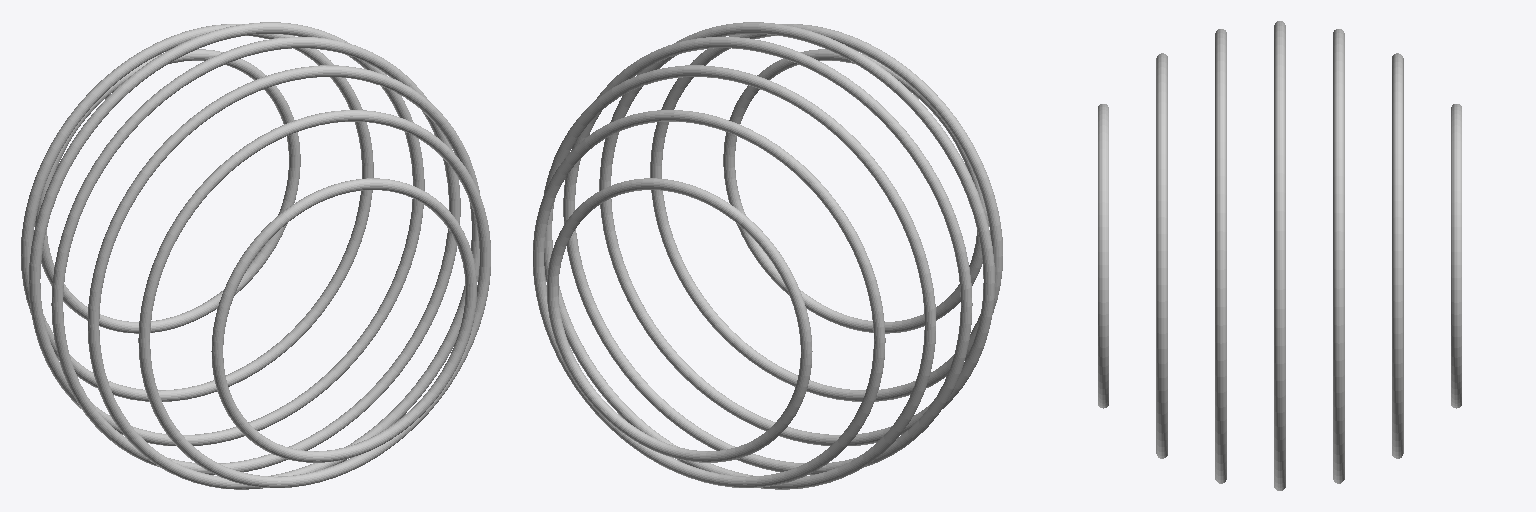
3 renders of one model, left to right at view 1: azimuth 30°, elevation 25°; view 2: azimuth 150°, elevation 25°; view 3: azimuth 270°, elevation 25°, orthographic.
Visible parts, largest first — view 1: Body_1, Body_2, Body_3, Body_4, Body_6, Body_5, Body_7; view 2: Body_1, Body_3, Body_2, Body_6, Body_4, Body_7, Body_5; view 3: Body_1, Body_2, Body_3, Body_4, Body_6, Body_5, Body_7.
Part boxes in pixels (x1,y1,x2,y2): Body_1: (51,37,460,474); Body_2: (29,22,424,445); Body_3: (88,65,479,489); Body_4: (138,110,490,487); Body_6: (21,24,373,401); Body_5: (211,178,476,462); Body_7: (35,49,300,333); Body_1: (563,37,972,474); Body_3: (599,22,994,445); Body_2: (544,65,935,489); Body_6: (533,110,885,487); Body_4: (650,24,1002,401); Body_7: (547,178,812,462); Body_5: (723,49,988,333); Body_1: (1274,21,1285,490); Body_2: (1333,29,1344,483); Body_3: (1215,29,1226,483); Body_4: (1156,53,1167,458); Body_6: (1392,53,1403,458); Body_5: (1098,104,1108,408); Body_7: (1451,104,1461,408).
Bounding box in the file's own units: 0.04 × 0.04 × 0.031.